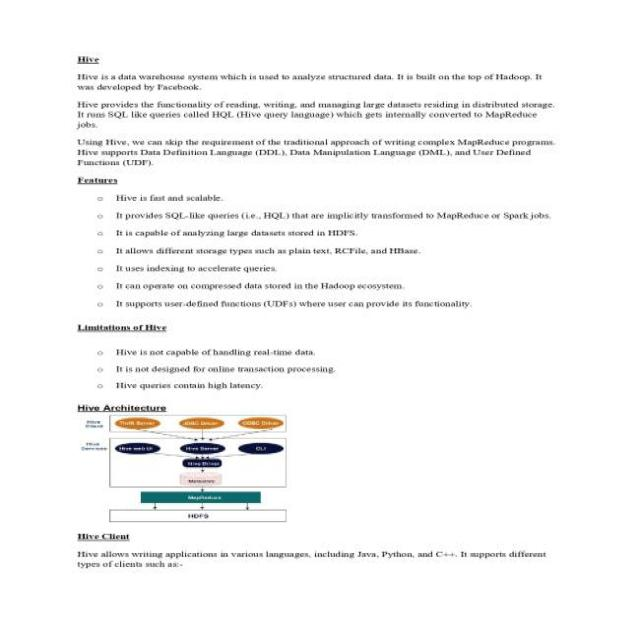Figure Detection - v3 Dataset Version2: (77, 414, 306, 528)
